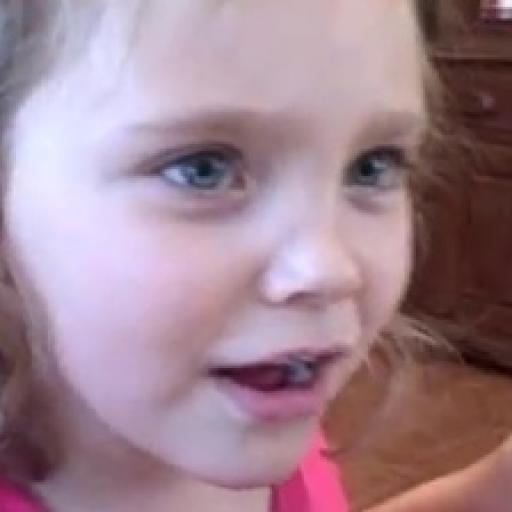Autism: (3, 5, 425, 498)
